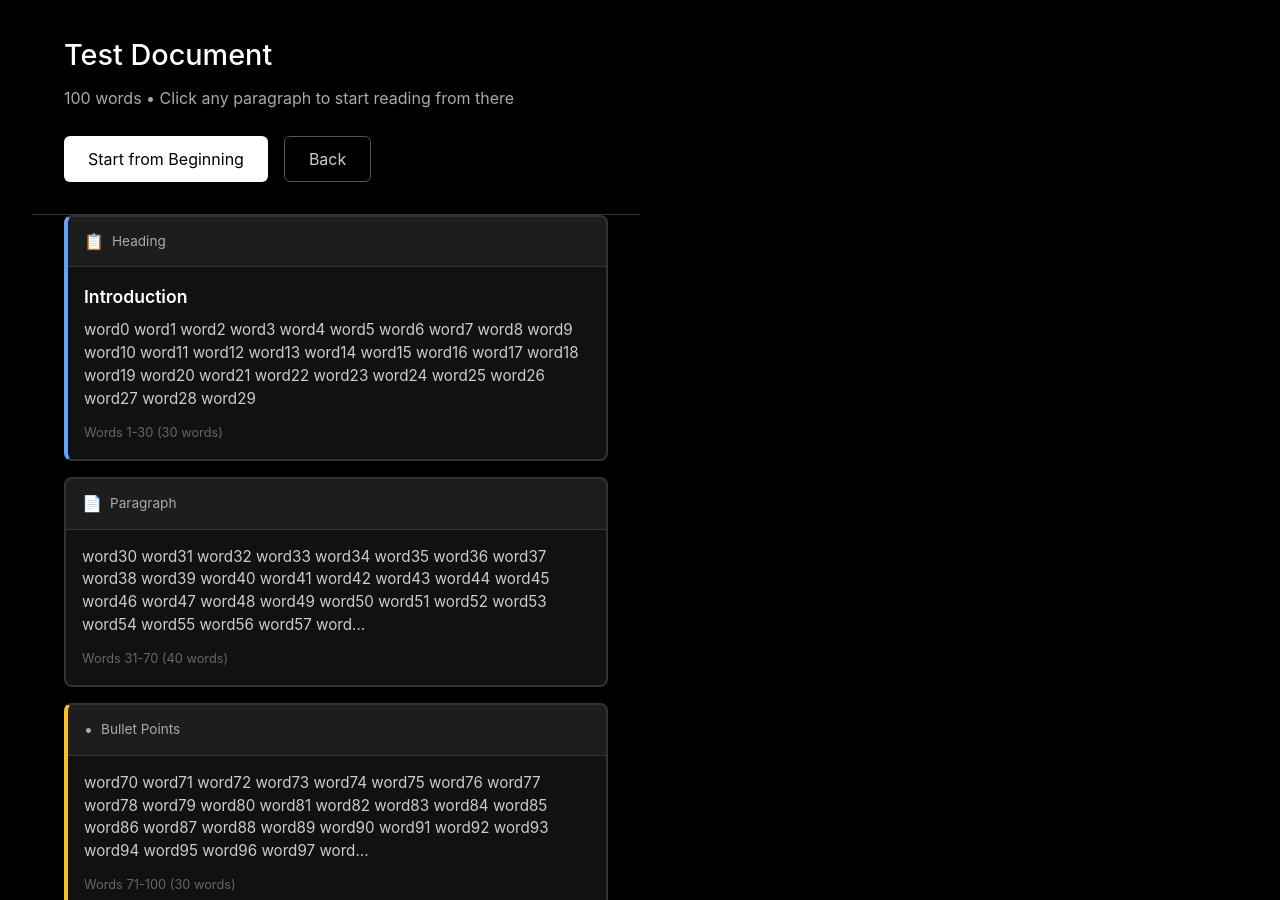
DocumentPreviewView › handles section selection and confirmation
// Click on the second section
Click the element with class "section" that starts with "Paragraph" at (336,582), box x1=64 y1=477 x2=608 y2=687
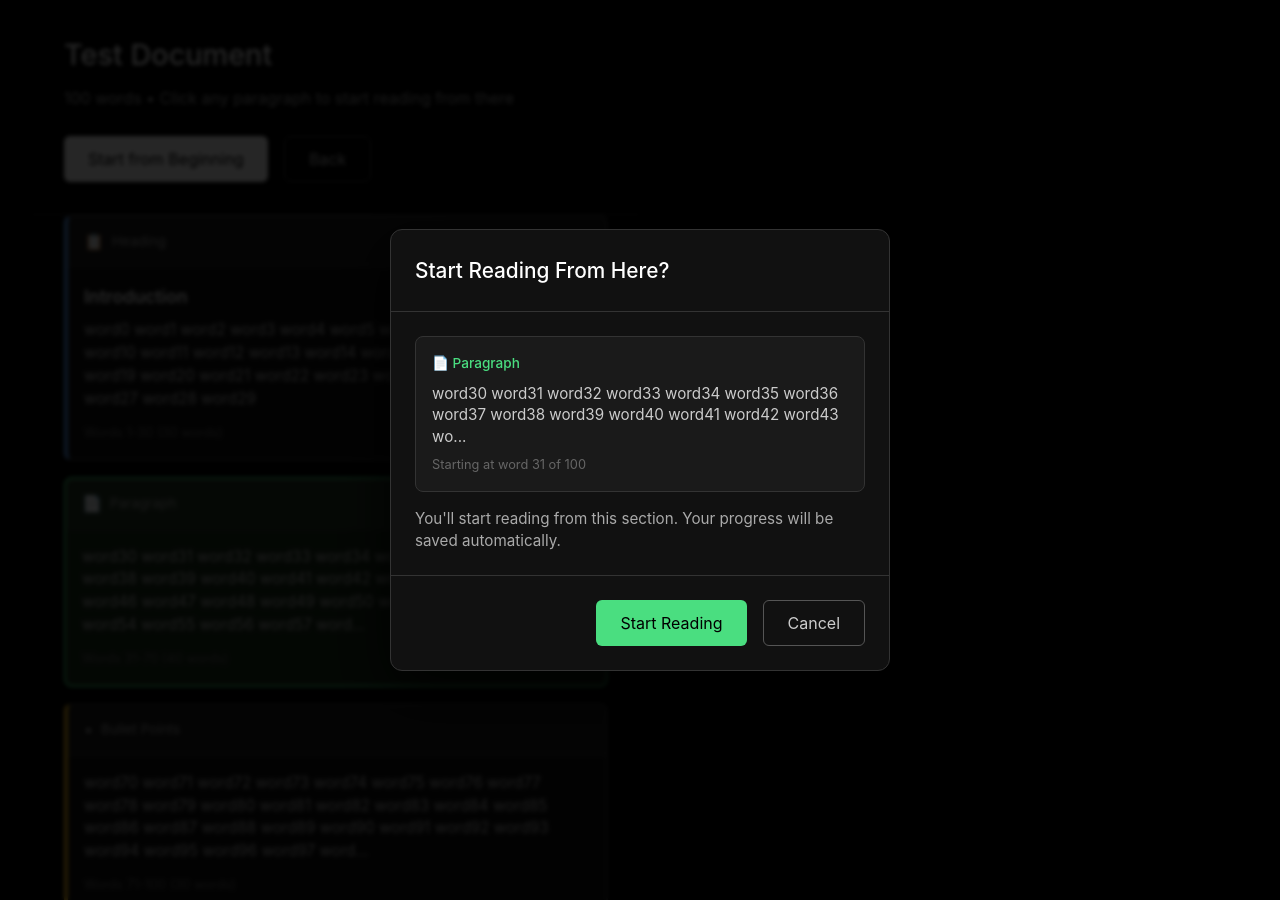
Expected: the element with class "modal-overlay" is shown
Expected: the heading "Start Reading From Here?" is shown, x1=415 y1=258 x2=669 y2=283
